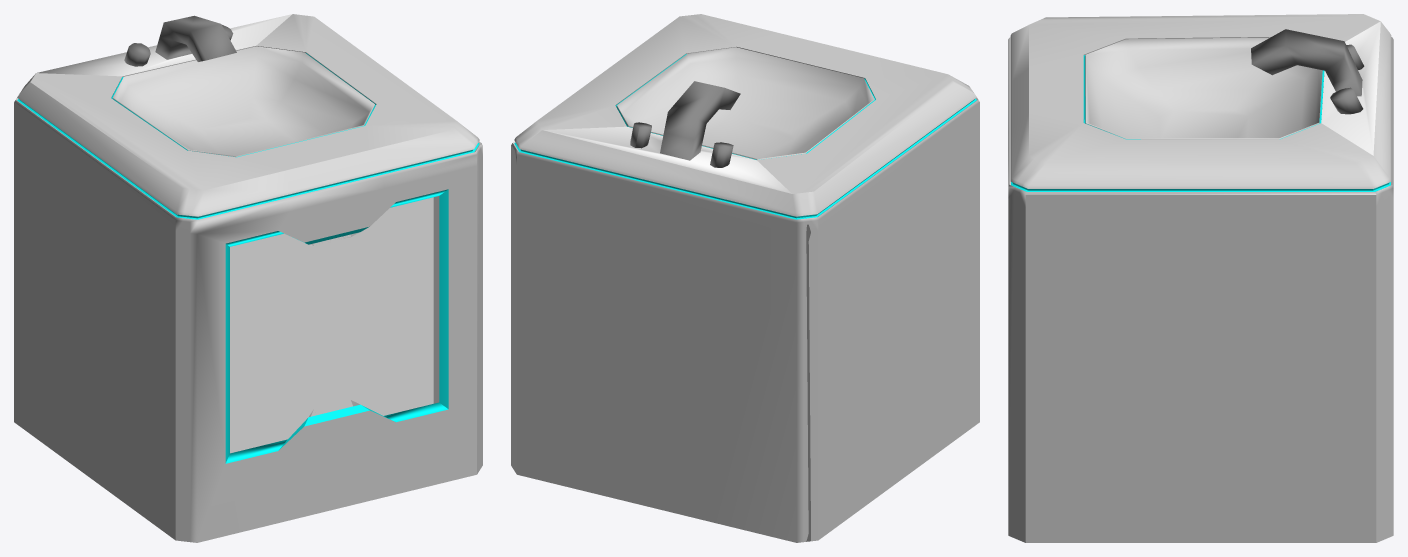
File: kitchenSink.glb
The picture shows the model from 3 angles, left to right: view 1: azimuth 30°, elevation 25°; view 2: azimuth 150°, elevation 25°; view 3: azimuth 270°, elevation 25°; orthographic projection. The views are drawn at different scales.
Parts seen in each view (by area): view 1: kitchenSink; view 2: kitchenSink; view 3: kitchenSink.
Boxes of the visible parts, x1,y1,x2,y2 form: kitchenSink: (14,14,482,542); kitchenSink: (511,14,979,542); kitchenSink: (1008,14,1393,542).
Size of the model in its own units: 0.8911 by 1.08 by 0.8911.
